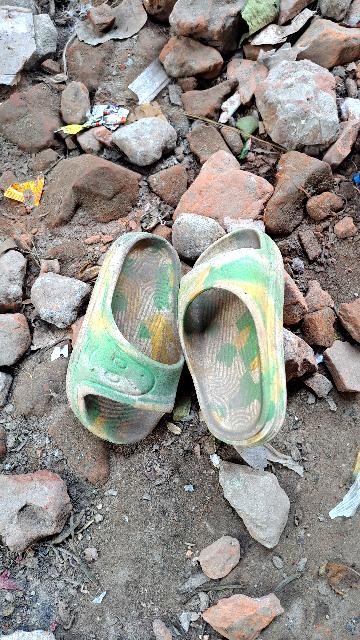sandal: (52, 219, 204, 458), (183, 223, 280, 444)
